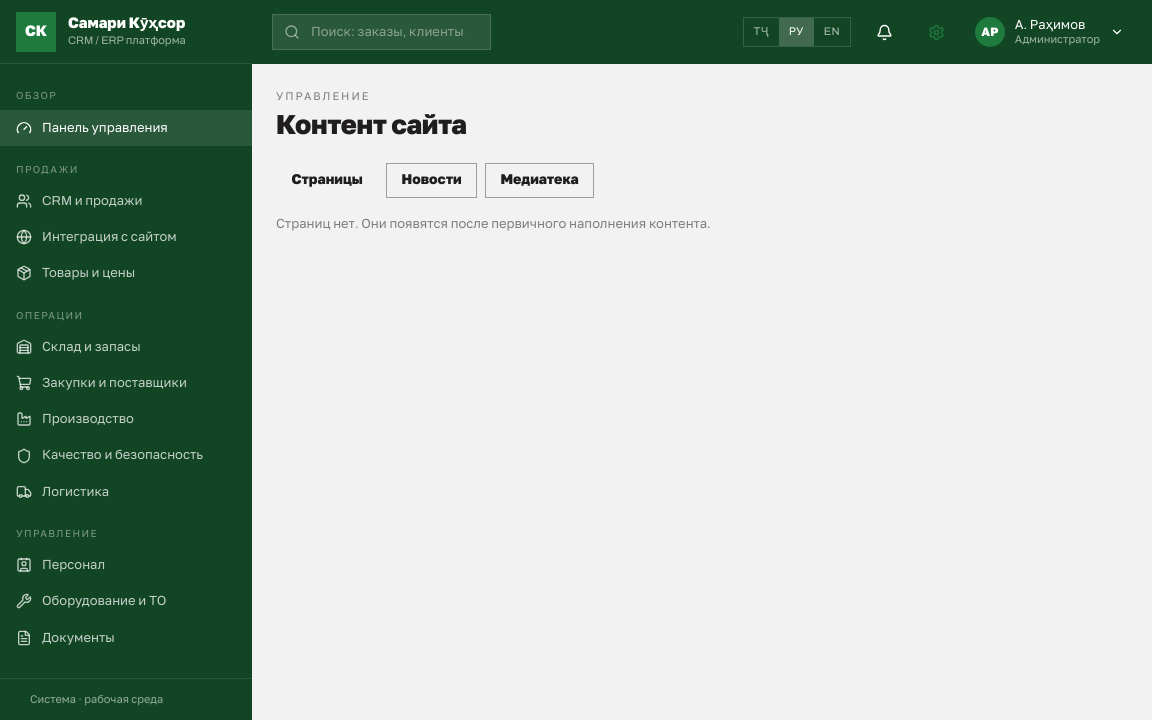
Test: CMS — the ladder history › says nothing has moved rather than showing an empty list
This screenshot has width=1152, height=720.
Click the tab "Новости": coordinates (432, 180) [386,163,477,198]
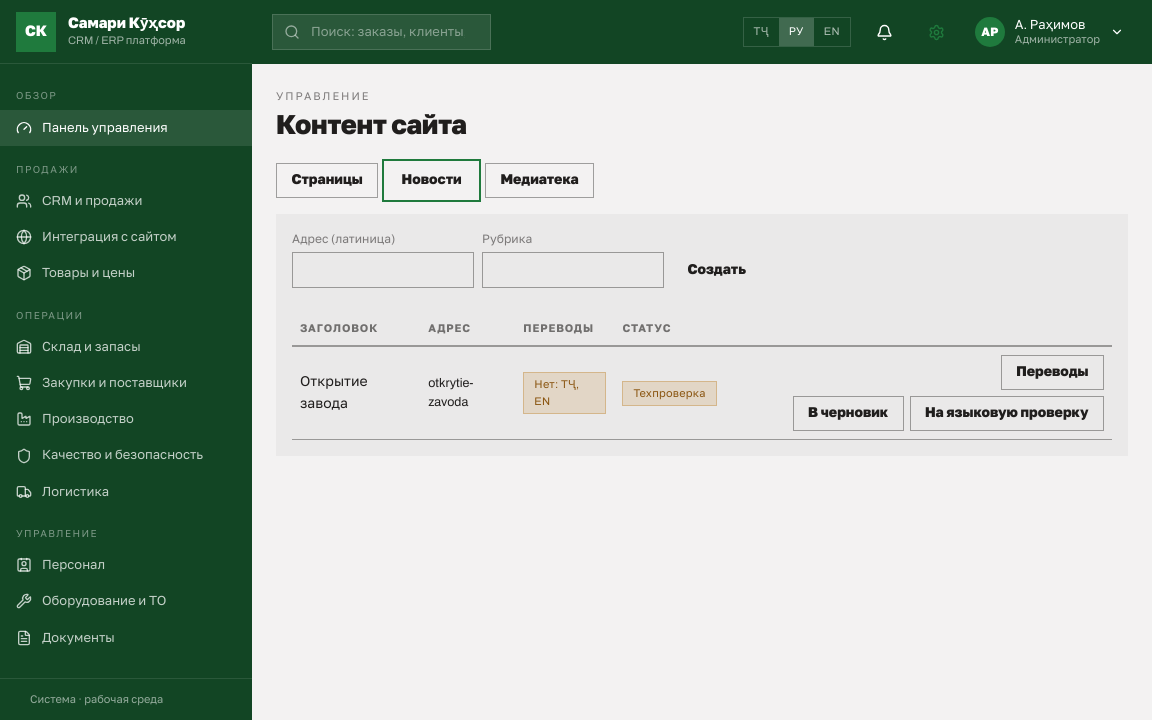
Click the button with test id "toggle-translations": coordinates (1052, 373) [1001,355,1104,390]
(page scrolled)
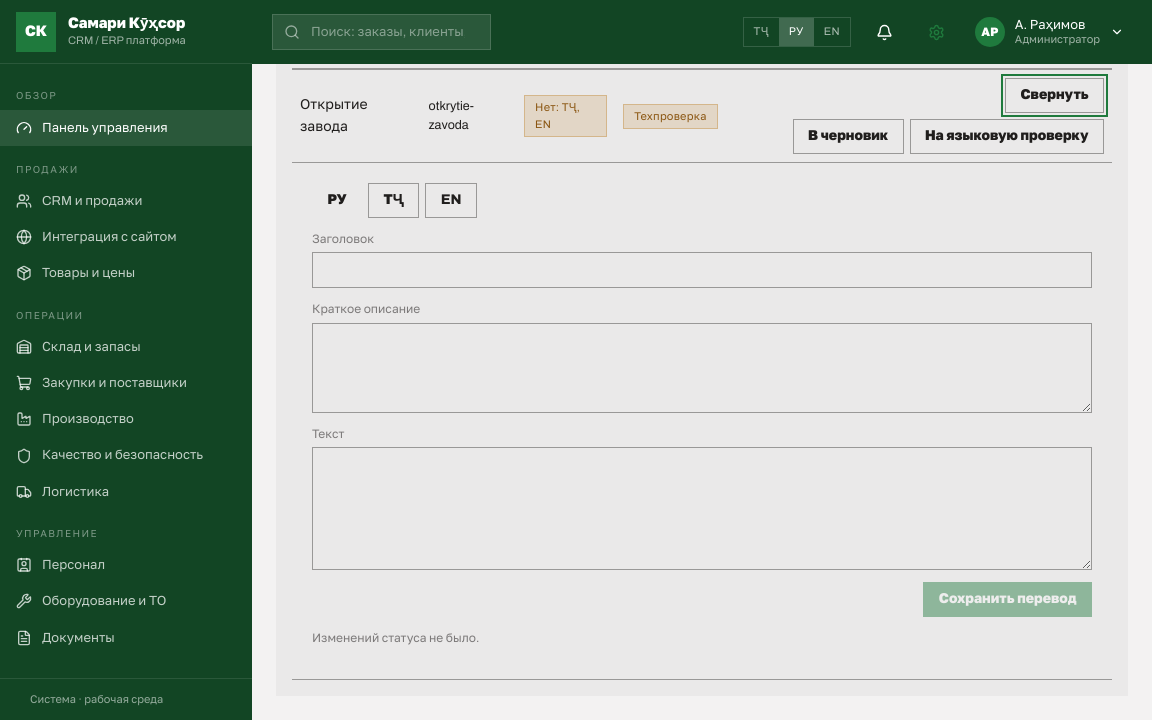
Expected: the text "Изменений статуса не было." is shown, [312,631,479,645]
